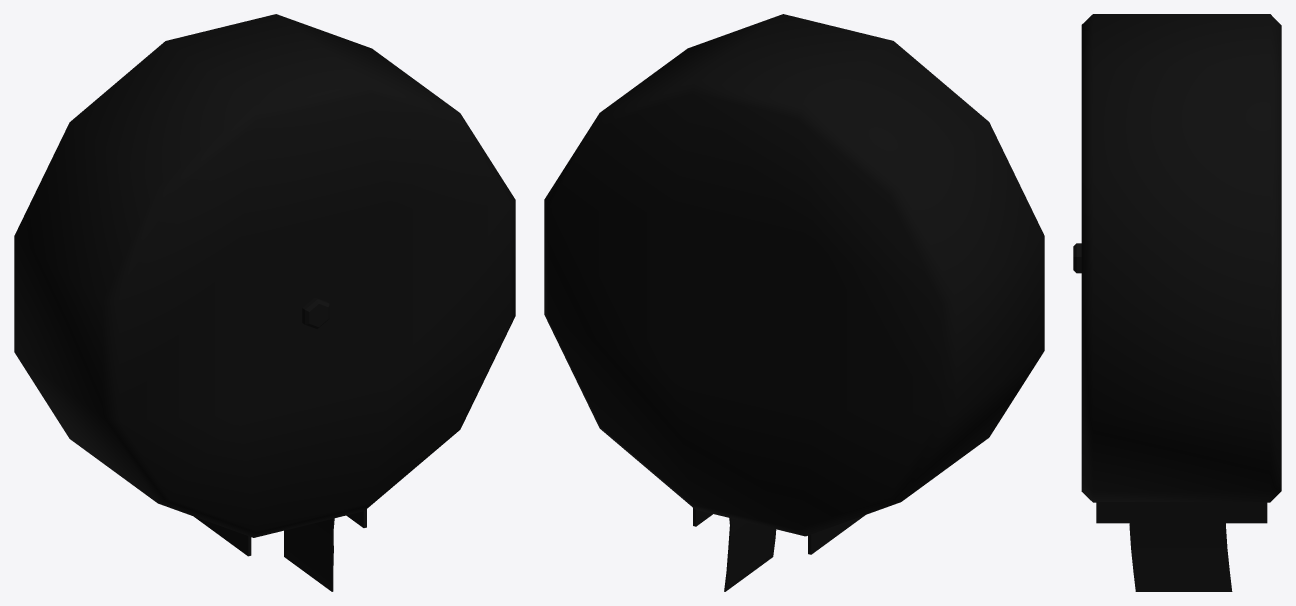
The model's file is ToiletPaperDispencer_Asset.fbx.
The picture shows the model from 3 angles, left to right: view 1: azimuth 30°, elevation 25°; view 2: azimuth 150°, elevation 25°; view 3: azimuth 270°, elevation 25°; orthographic projection.
Parts seen in each view (by area): view 1: TPDispencer; view 2: TPDispencer; view 3: TPDispencer.
Boxes of the visible parts, x1=… form: TPDispencer: x1=14, y1=14, x2=515, y2=591; TPDispencer: x1=544, y1=14, x2=1044, y2=591; TPDispencer: x1=1073, y1=14, x2=1281, y2=591.
Size of the model in its own units: 29.94 by 13.02 by 36.44.
